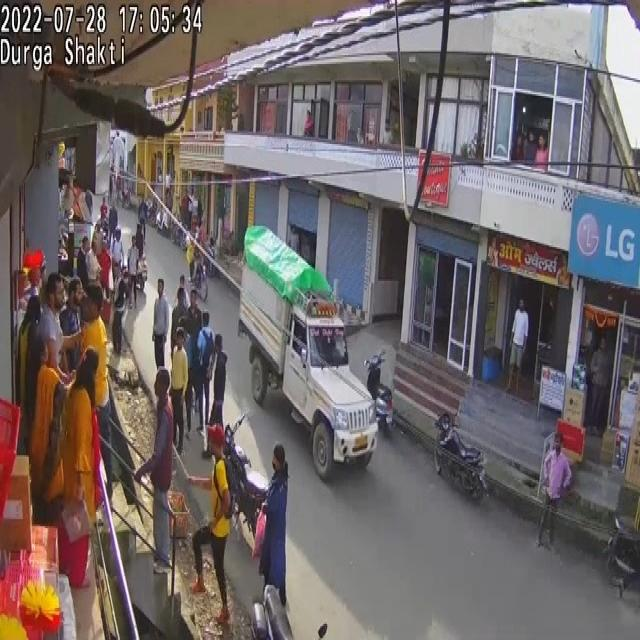fight: (16, 204, 145, 545), (78, 293, 129, 529), (58, 347, 100, 608), (29, 336, 71, 524)
non-fight: (0, 436, 64, 638), (159, 268, 222, 459), (82, 186, 150, 333), (192, 422, 234, 626), (134, 365, 174, 574), (257, 446, 289, 611), (535, 434, 571, 552), (195, 314, 216, 434), (170, 327, 189, 456), (588, 337, 611, 434), (505, 299, 529, 390), (210, 333, 228, 431), (112, 266, 130, 357), (152, 280, 170, 368)
